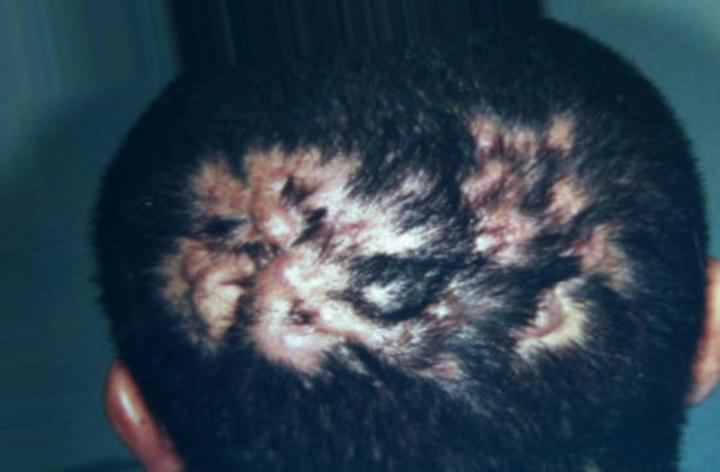Folliculitis: (190, 122, 616, 372)
